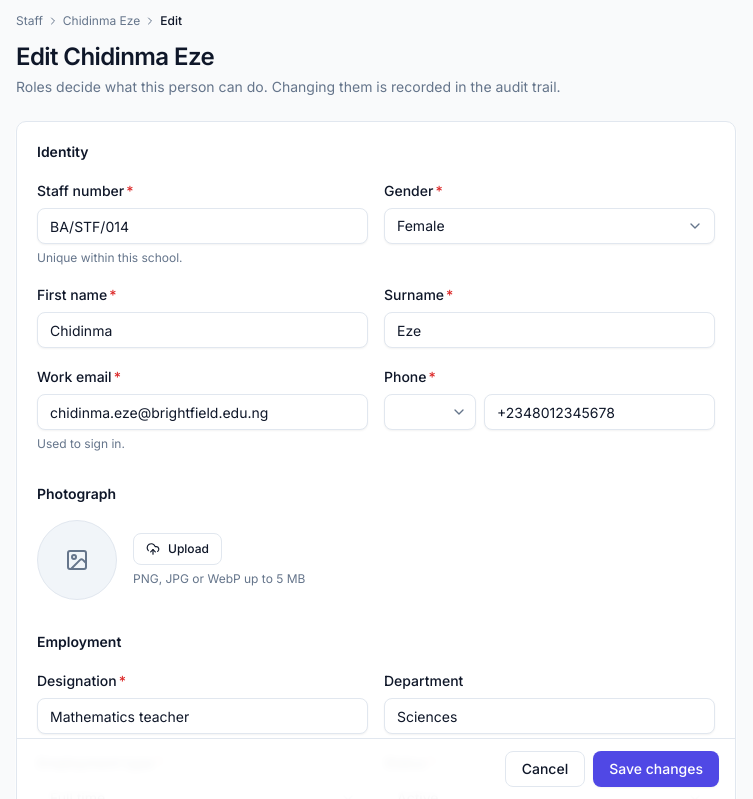
StaffFormPage — editing › says why it will not save when a role is one this form cannot set
The image size is (753, 799).
Replace the text in the field labelled "Designation*" with "Head of year" at (202, 716), box [37,698,368,734]
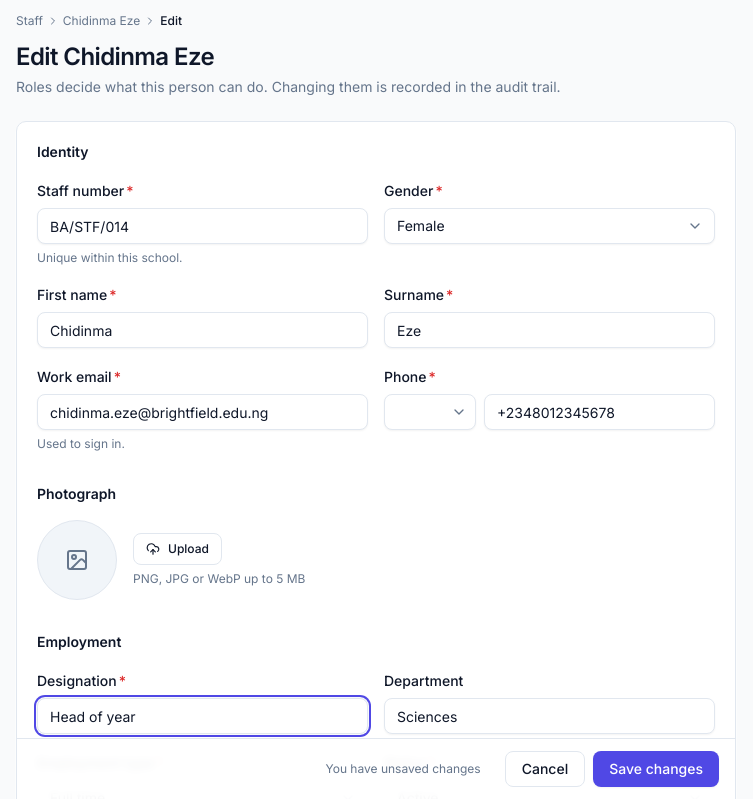
Click the button "Save changes" at (656, 769), box [593,751,719,787]
(page scrolled)
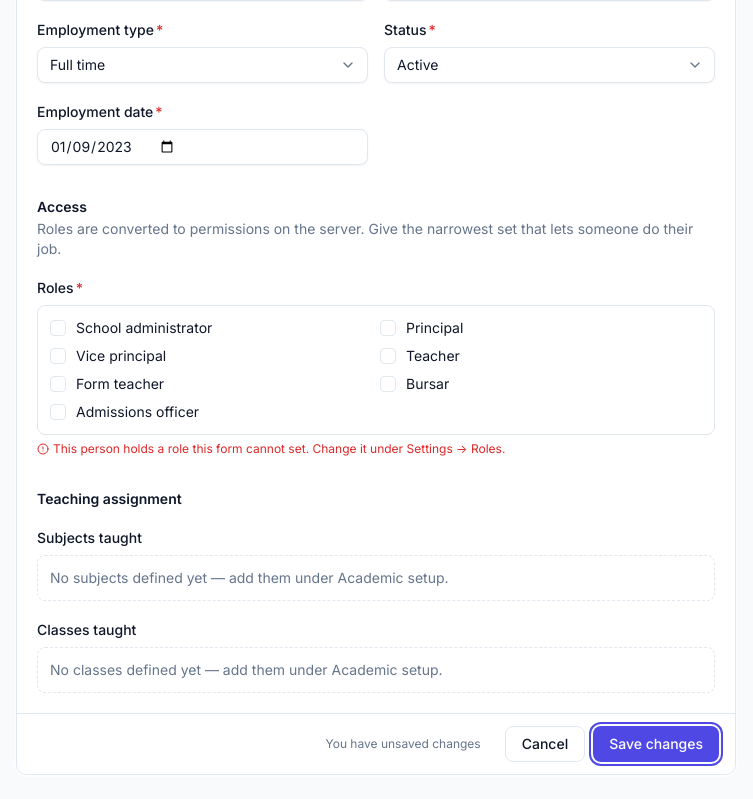
expect the text "role this form cannot set" is shown: met, box [53,441,505,456]
